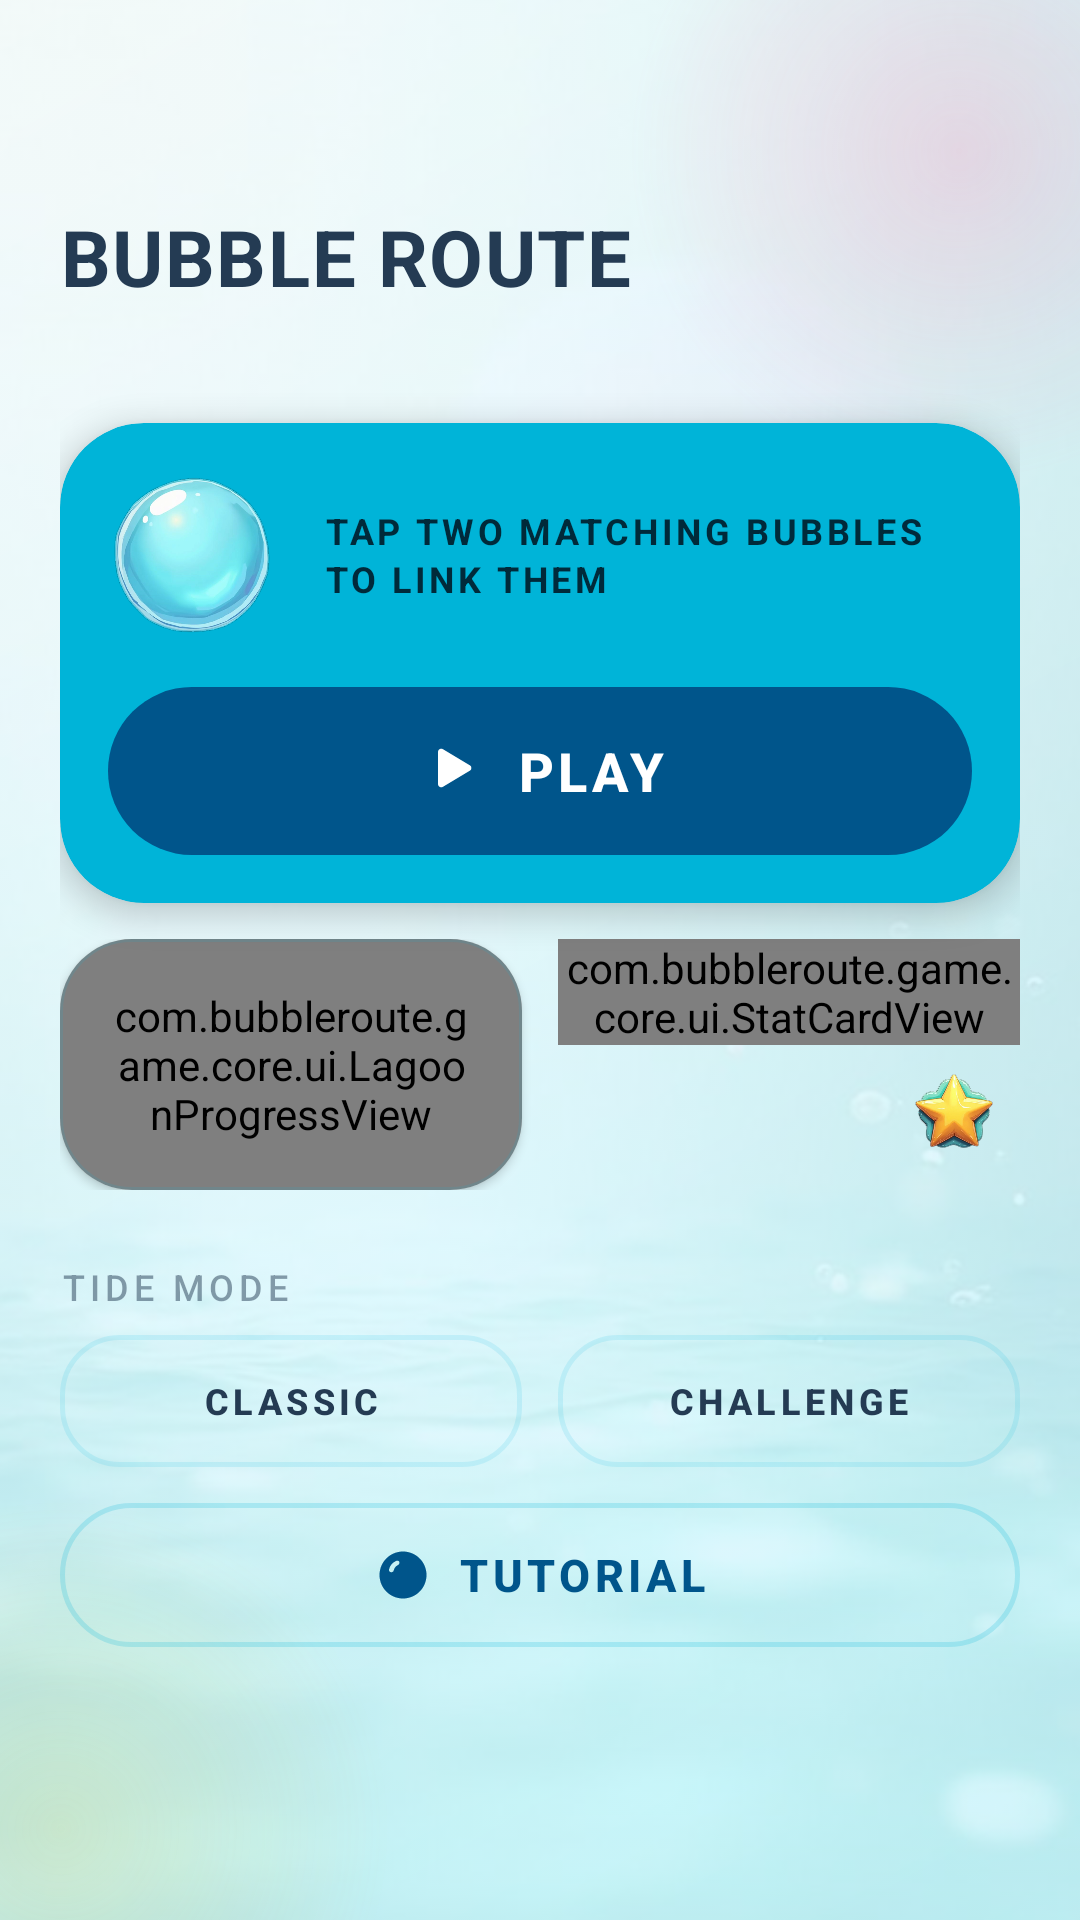

Icons on this 1080px x 1920px Android screen, each with the point to tap as (x=x, y=y):
Aqua lagoon bubble: (x=192, y=555)
Best route badge: (x=954, y=1111)
